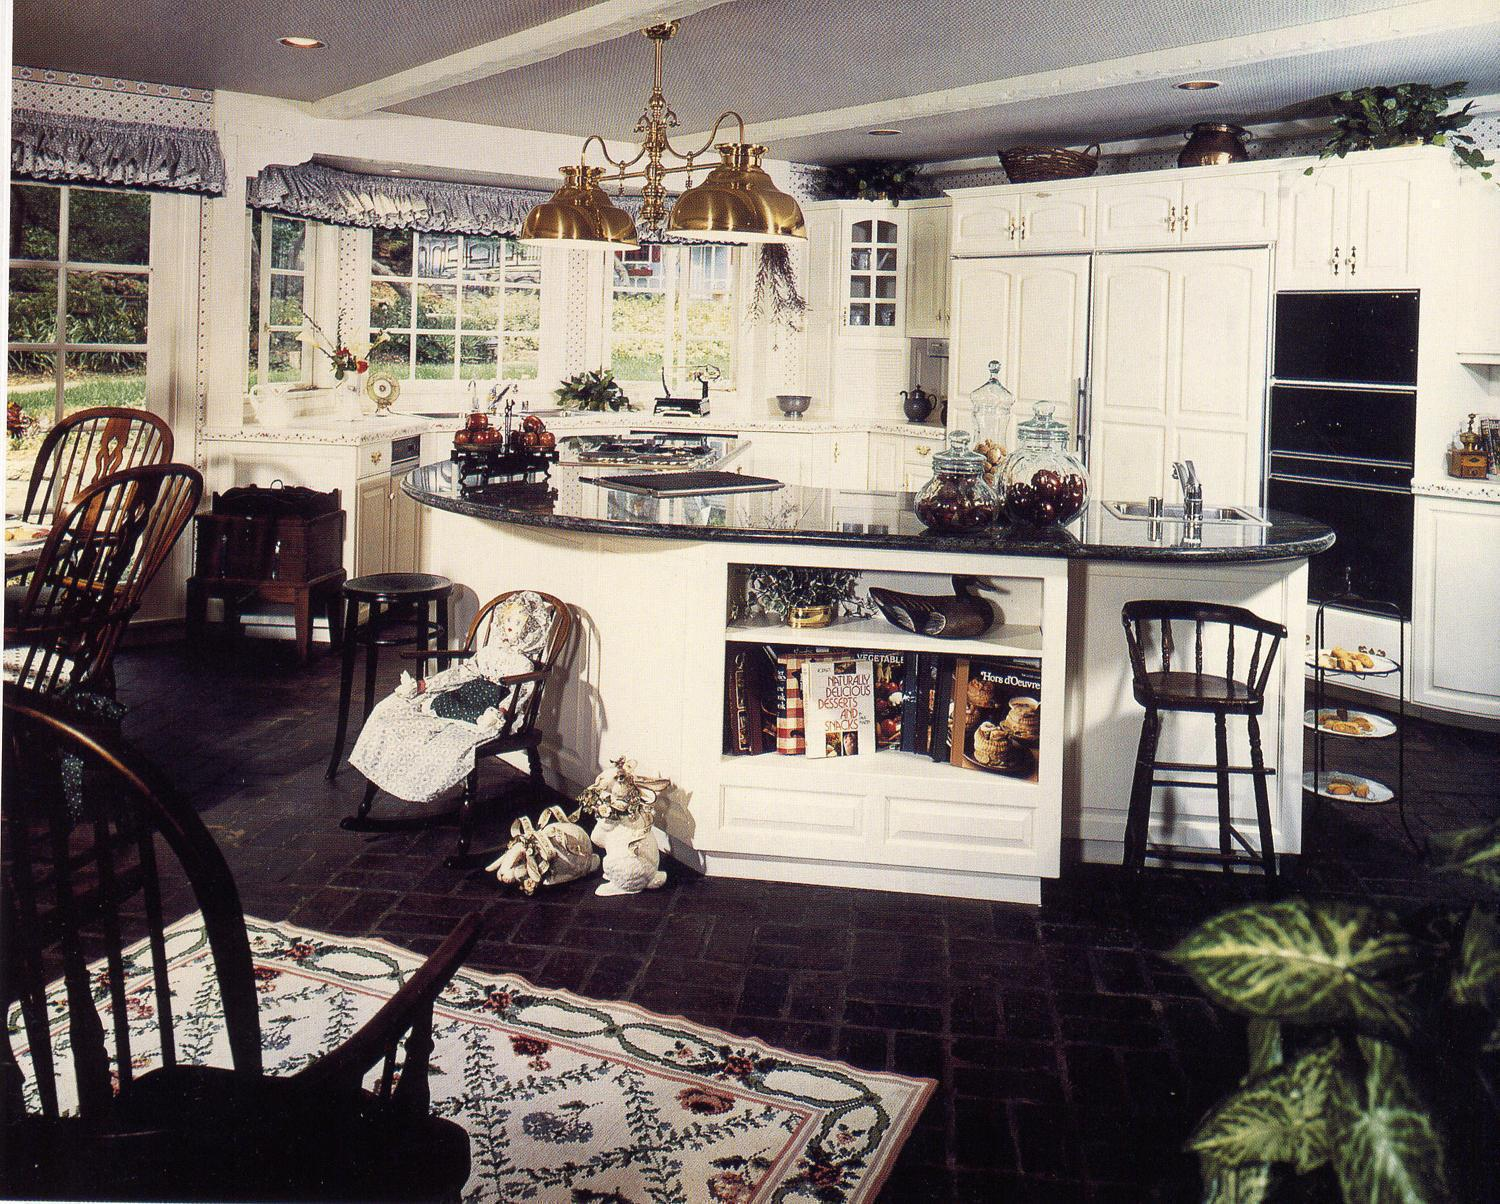Electrodomestico: (1278, 286, 1404, 616)
Lavaplatos: (1111, 459, 1271, 537)
Otro Obstaculo: (373, 614, 557, 819), (514, 768, 682, 899), (211, 489, 328, 661)
Ventana: (258, 199, 557, 388), (595, 233, 737, 389)
